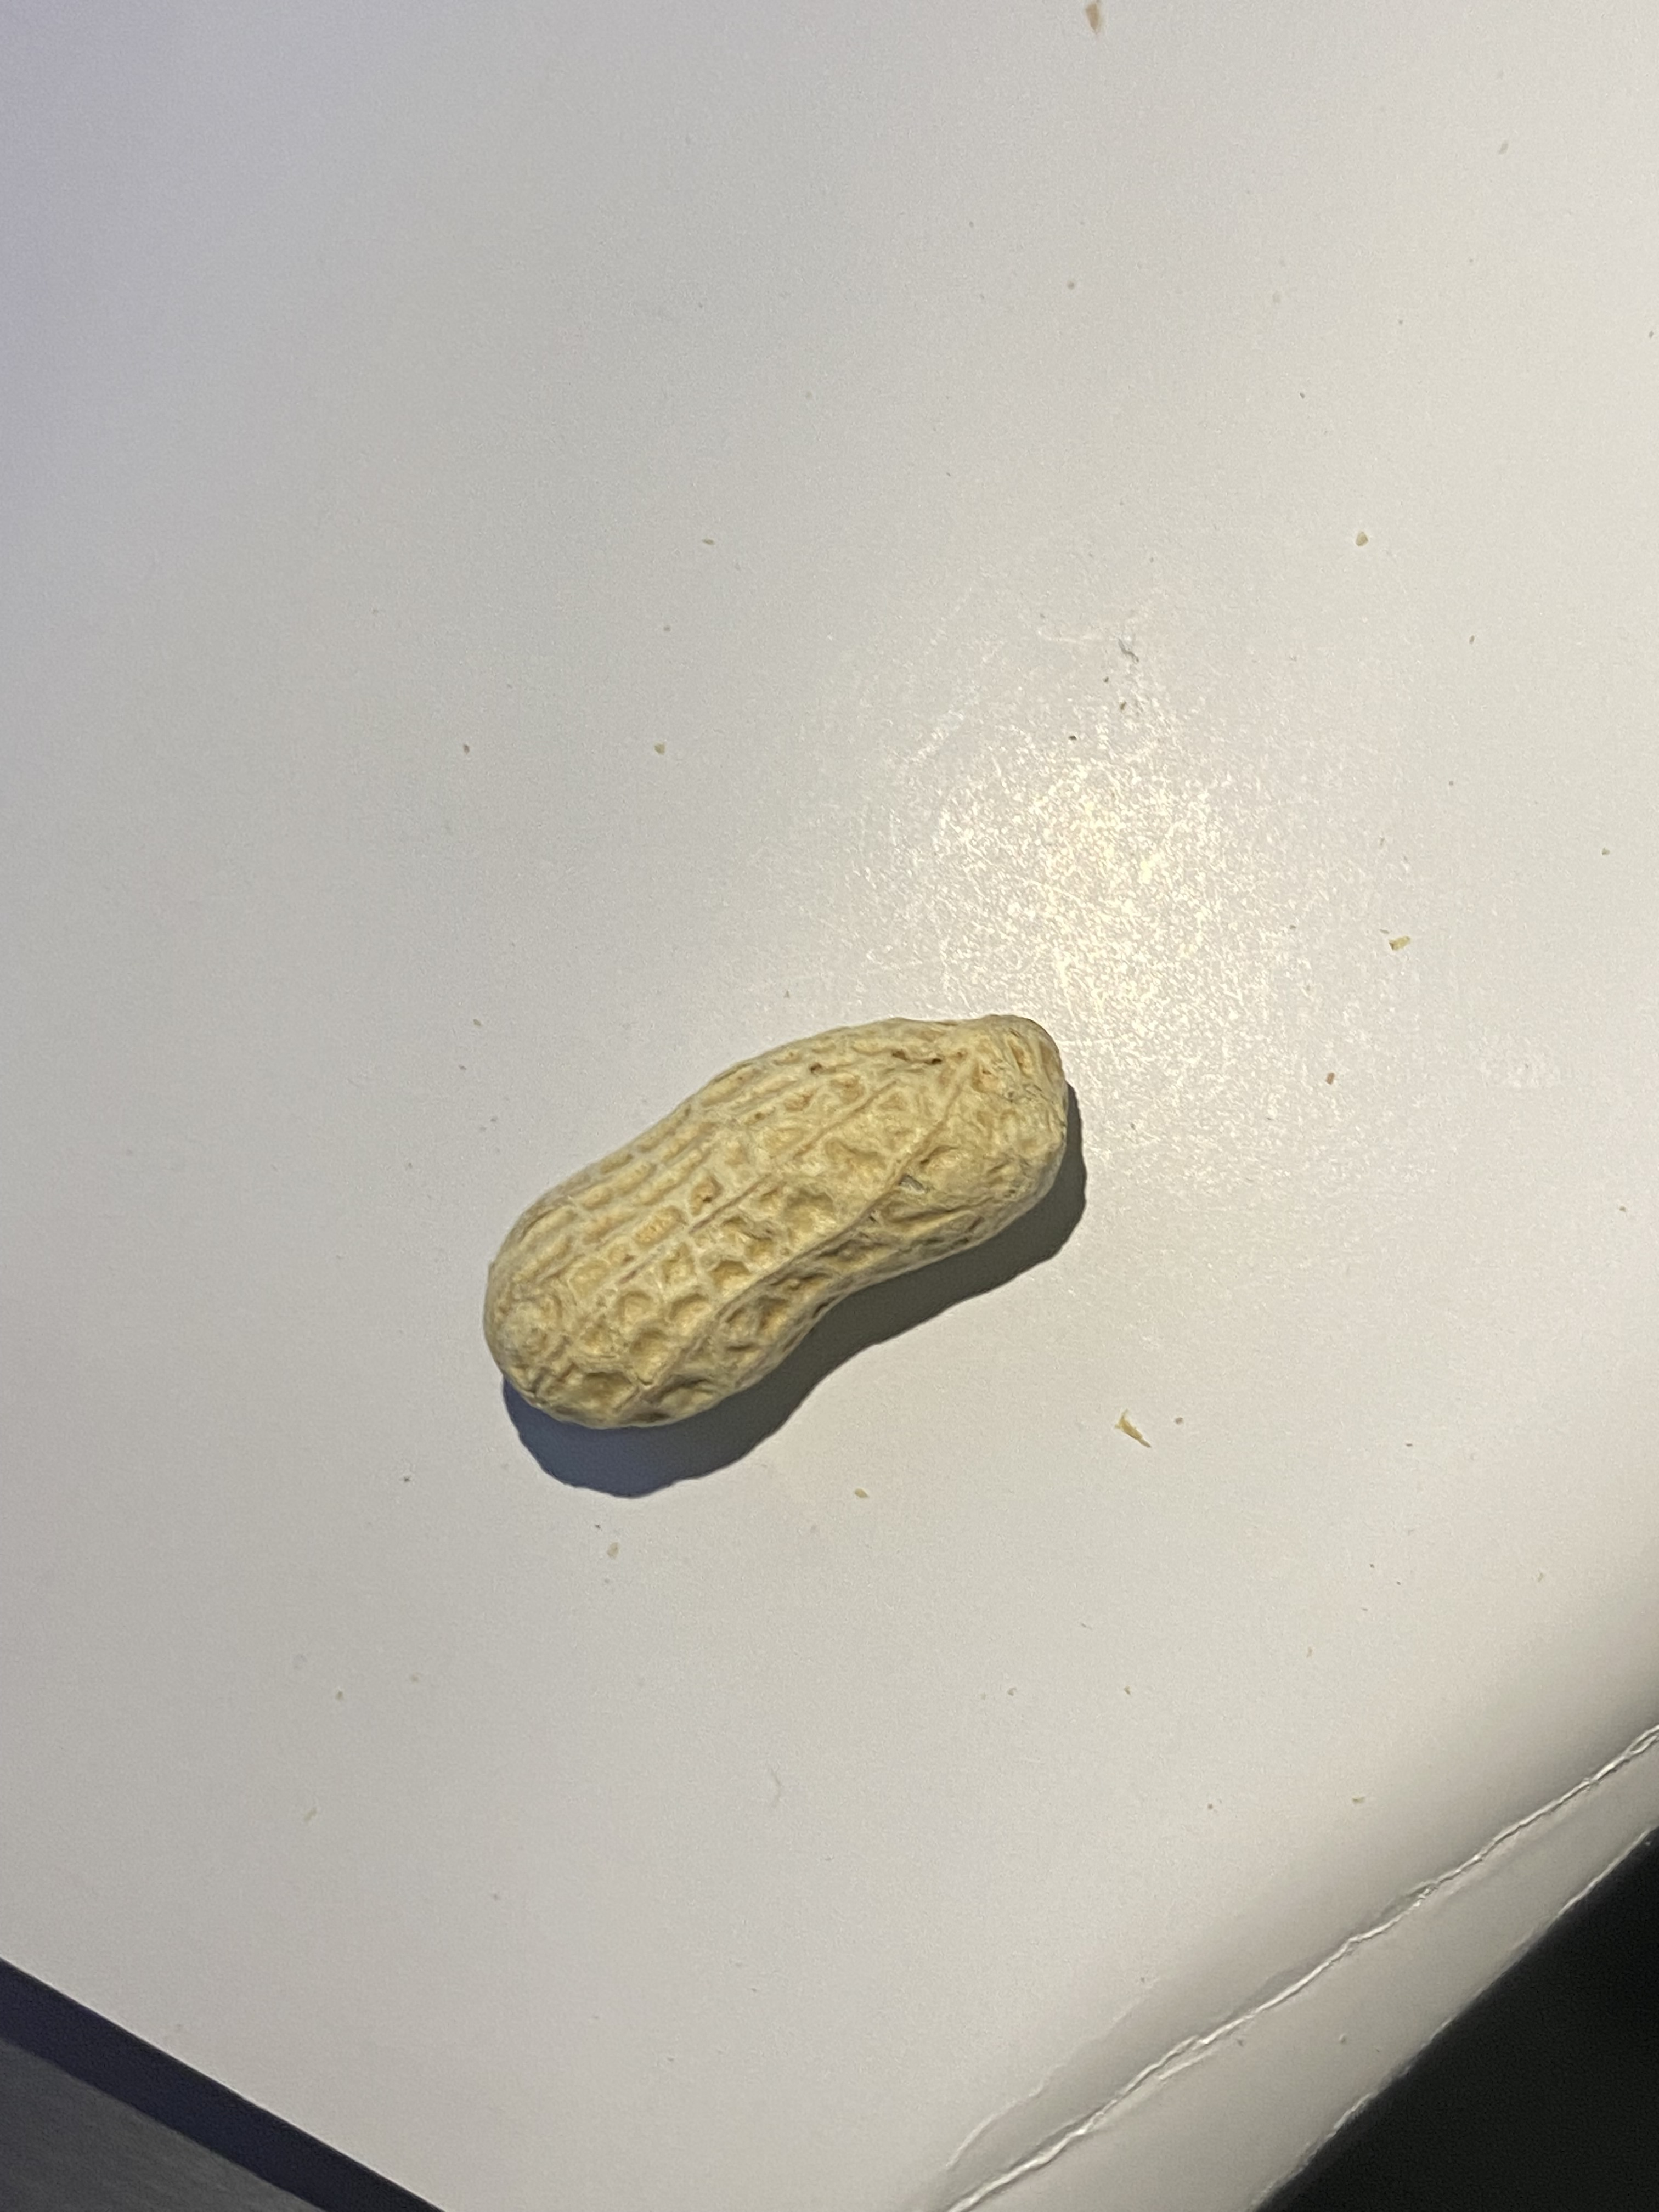kacang2: (471, 993, 1080, 1474)
